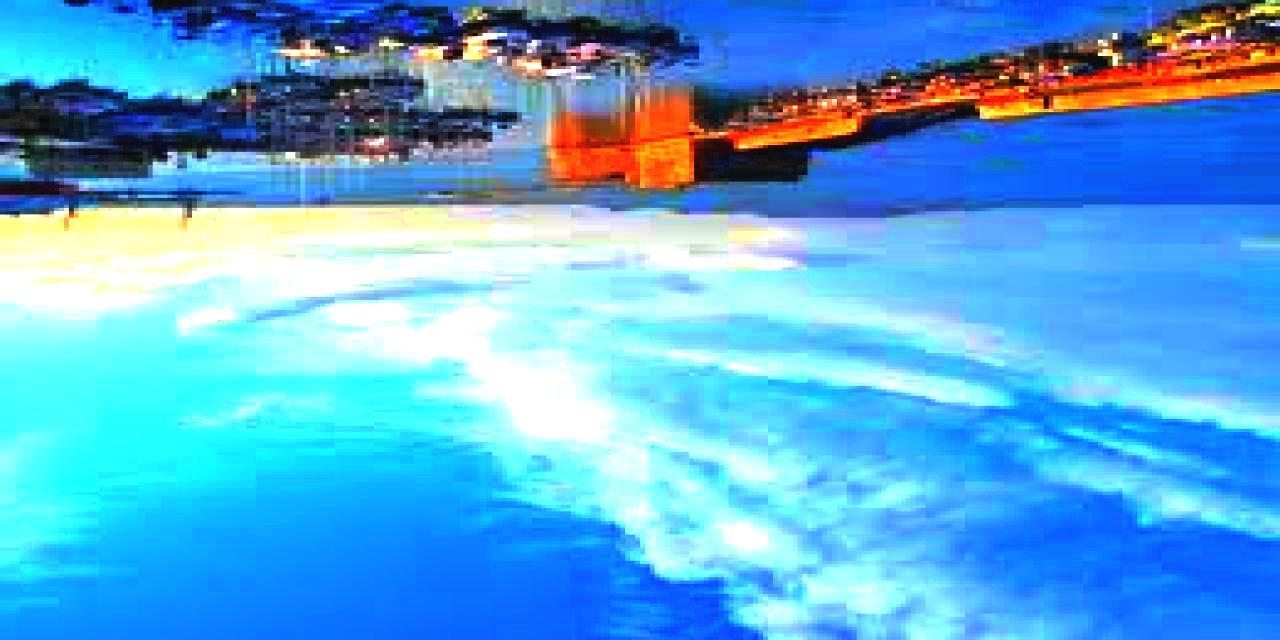Kules: (542, 135, 812, 196)
